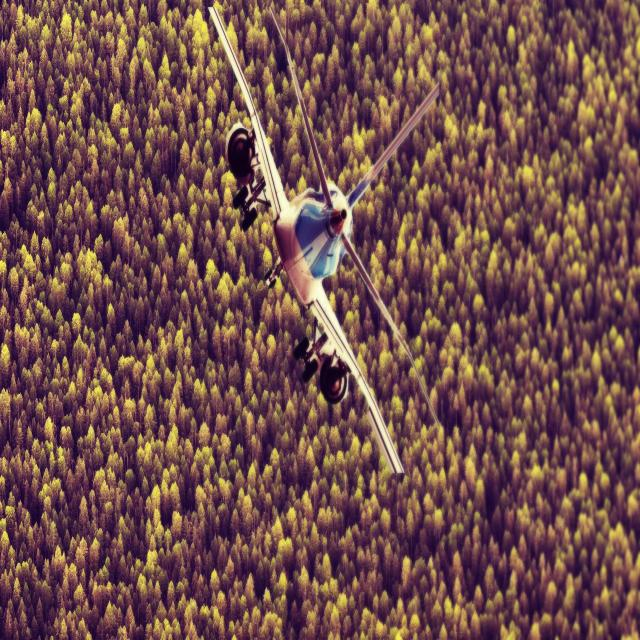airplane: (206, 2, 444, 478)
